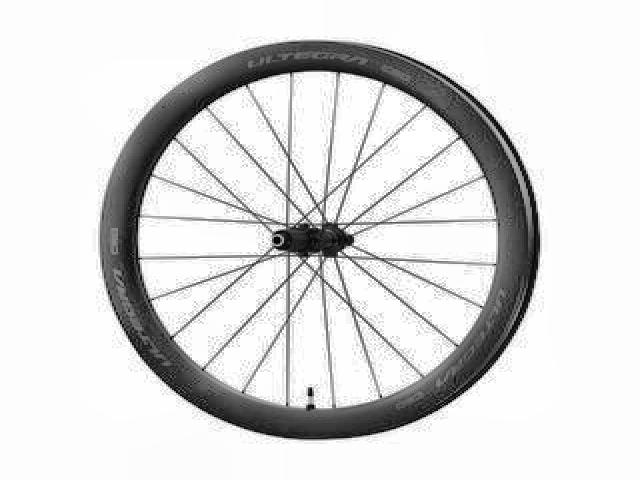wheel: (89, 33, 548, 451)
